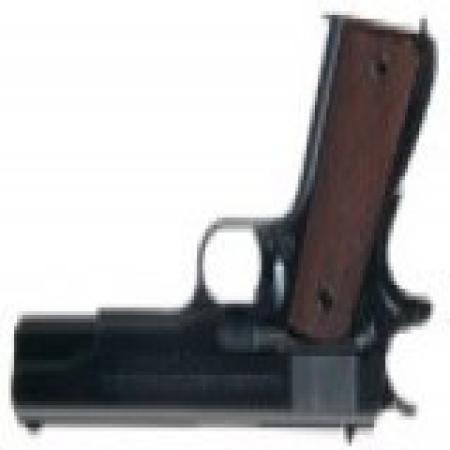Pistol: (14, 23, 433, 442)
